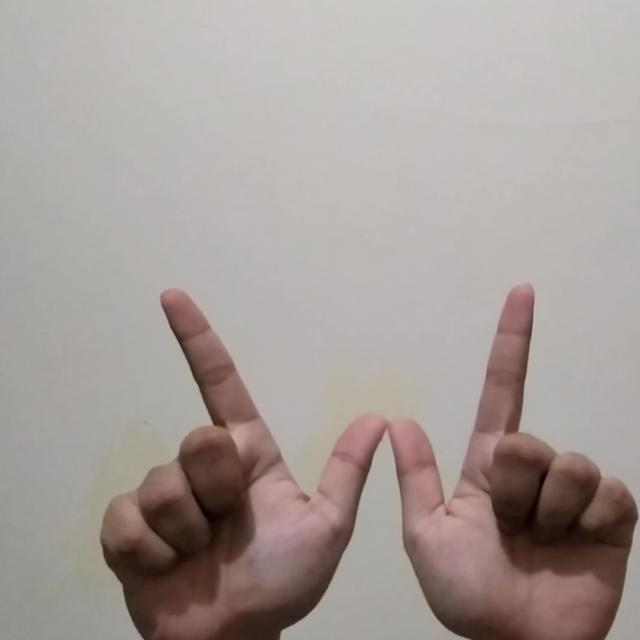W: (84, 256, 637, 638)
